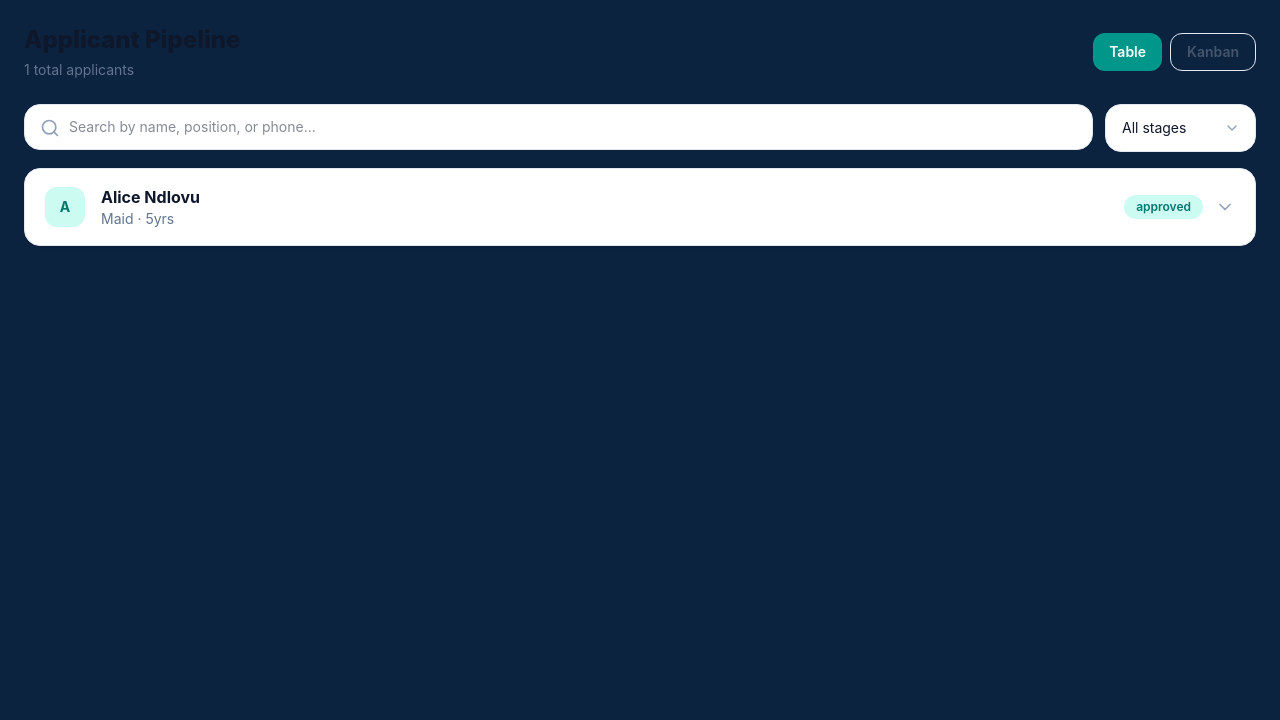
Test: AdminApplicants › shows Convert to Worker button for approved applicants in expanded table view
Click the text "Alice Ndlovu".
click(150, 197)  # box [101, 185, 200, 209]
(page scrolled)
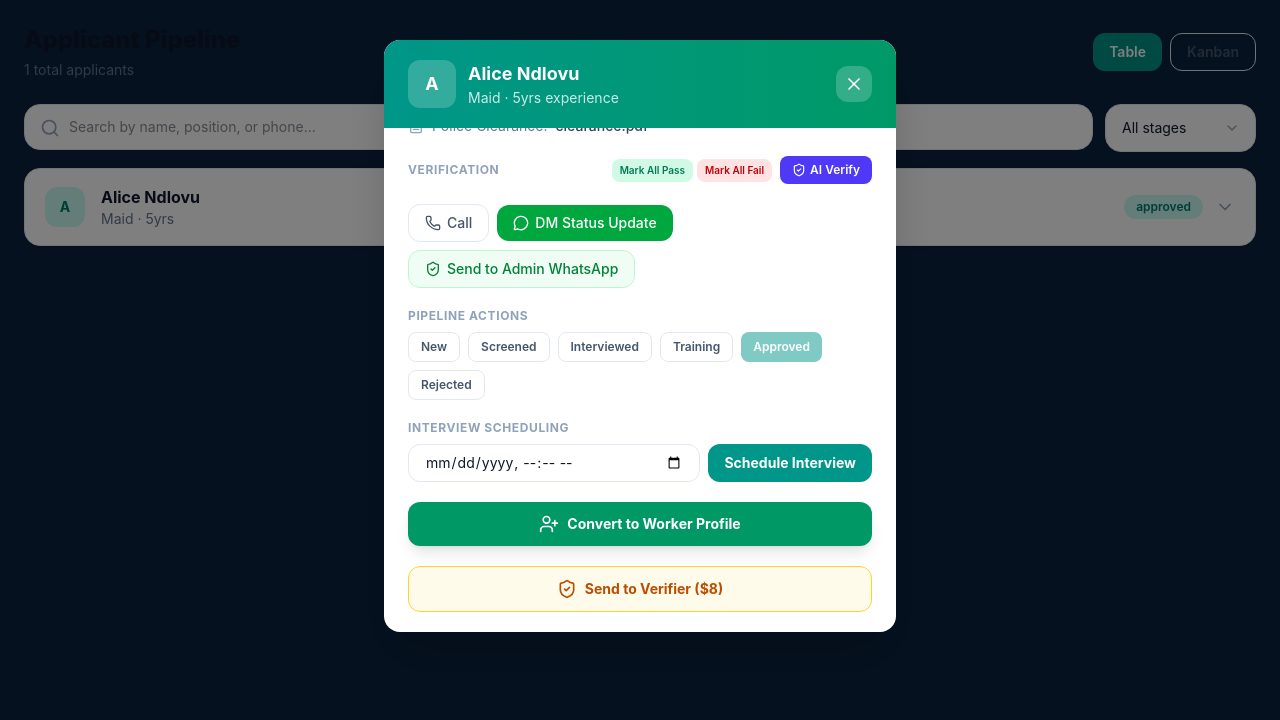
Now the button "Convert to Worker Profile" is shown, box [408, 502, 872, 546]
